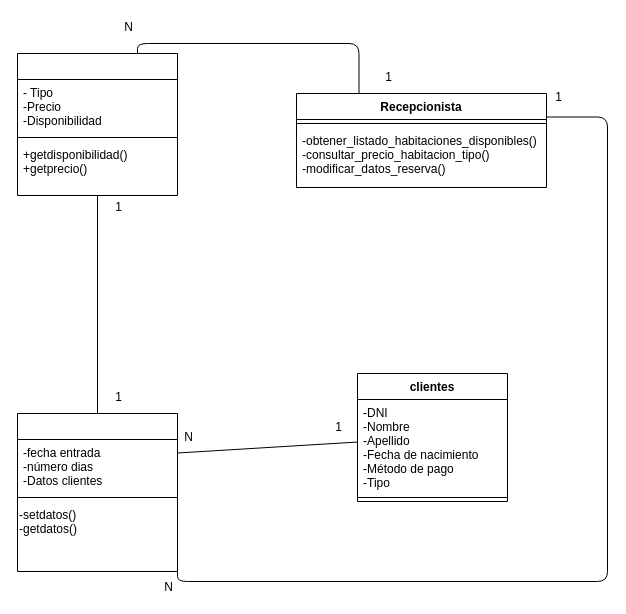
Image size: 626x614. Some labels were removed from this diagram. The shapes that lost their labels are listed below. From the top down, each one's box as (x1, y1, x2, y2) in pixels, then its label:
(16, 52, 178, 196): Habitación
(16, 412, 178, 572): Reserva
